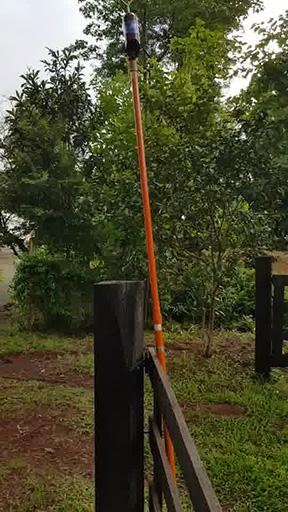Detector_Tensao_Contato: (124, 1, 141, 61)
Vara_Manobra: (125, 62, 165, 375)
